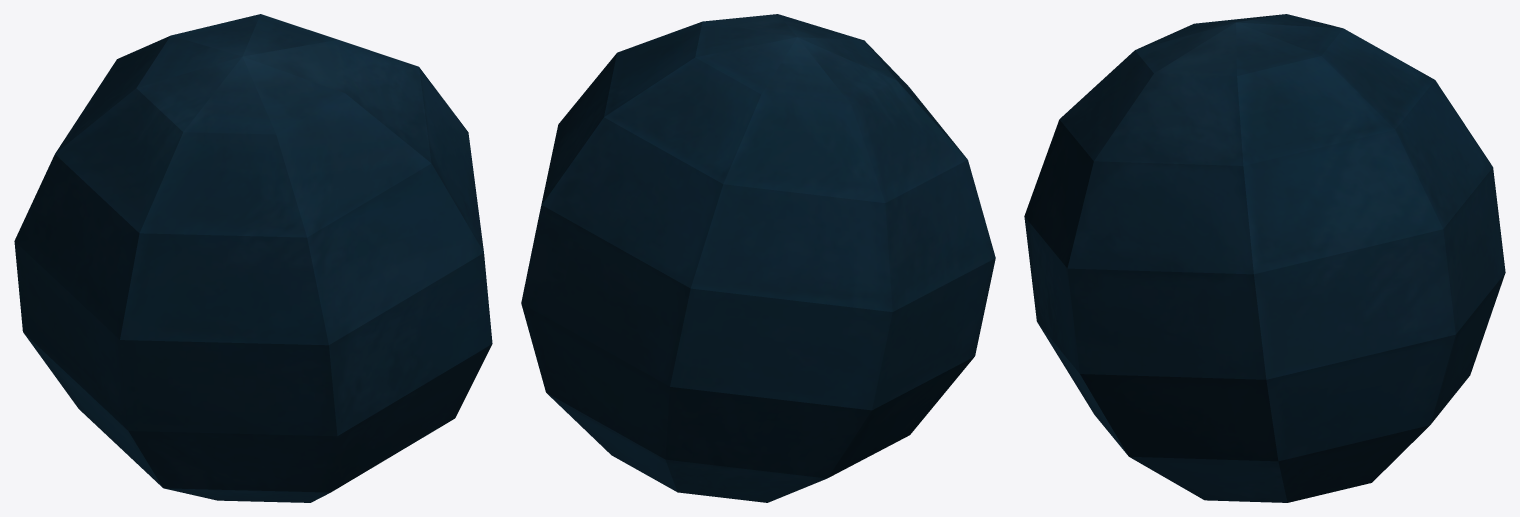
File: Monolith6.fbx
3 views of the same model, side by side, from view 1: azimuth 30°, elevation 25°; view 2: azimuth 150°, elevation 25°; view 3: azimuth 270°, elevation 25° (orthographic).
Visible parts, largest first — view 1: polySurface5; view 2: polySurface5; view 3: polySurface5.
Boxes of the visible parts, x1,y1,x2,y2 form: polySurface5: (14,14,492,502); polySurface5: (521,14,995,502); polySurface5: (1024,14,1505,502).
Bounding box in the file's own units: 2.61 × 2.7 × 2.66.
